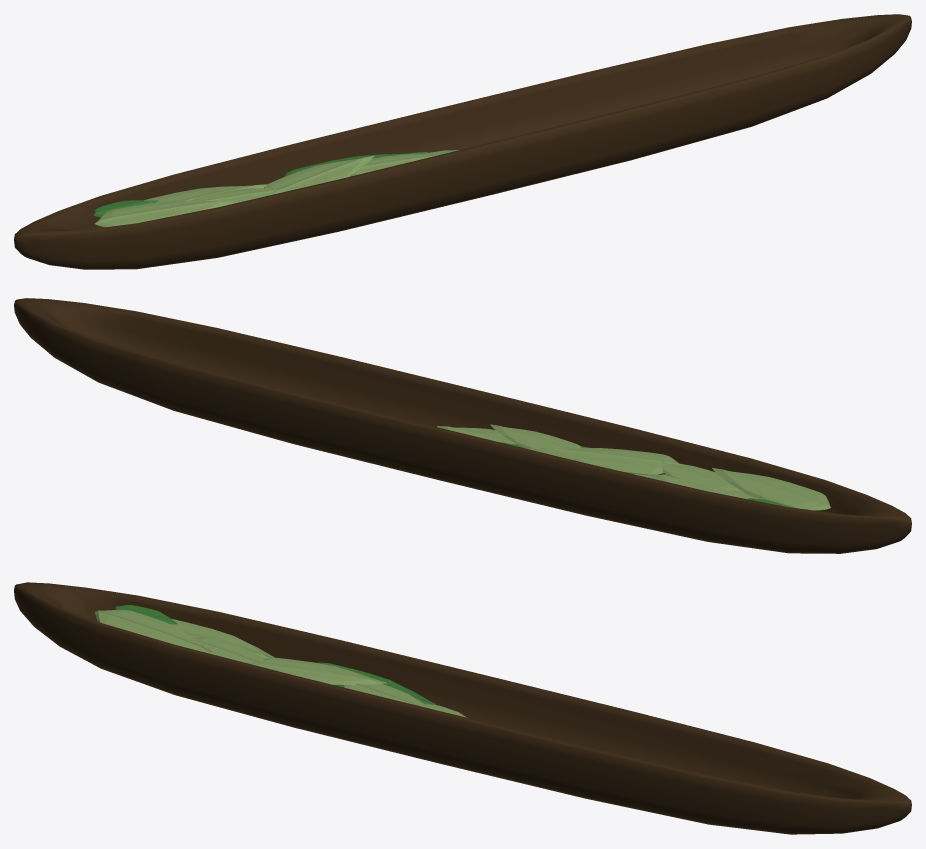
File: marche.gltf
3 views of the same model, one above another, from view 1: azimuth 30°, elevation 25°; view 2: azimuth 150°, elevation 25°; view 3: azimuth 330°, elevation 25° (orthographic).
Parts seen in each view (by area): view 1: Cube.001; view 2: Cube.001; view 3: Cube.001.
Boxes of the visible parts, box(x1,y1,x2,y2) form: Cube.001: box(14, 14, 911, 269); Cube.001: box(14, 298, 911, 553); Cube.001: box(14, 582, 911, 834).
Size of the model in its own units: 8.07 by 0.4815 by 0.849.
